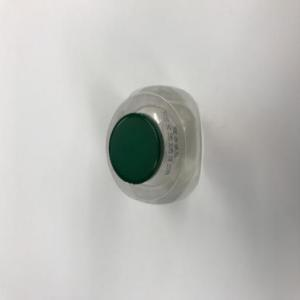Plastic-bottle: (106, 85, 203, 206)
